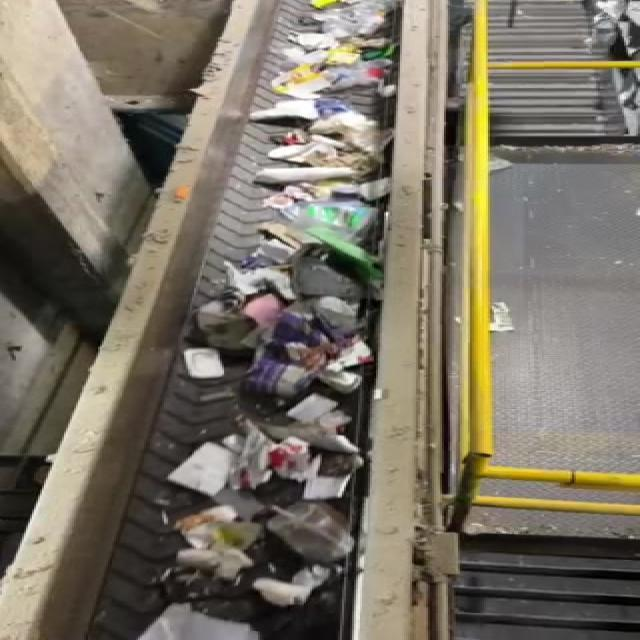paper: (178, 521, 257, 575), (258, 578, 328, 612)
pp: (176, 433, 260, 498), (272, 504, 358, 561), (294, 450, 366, 500), (283, 390, 356, 432)
